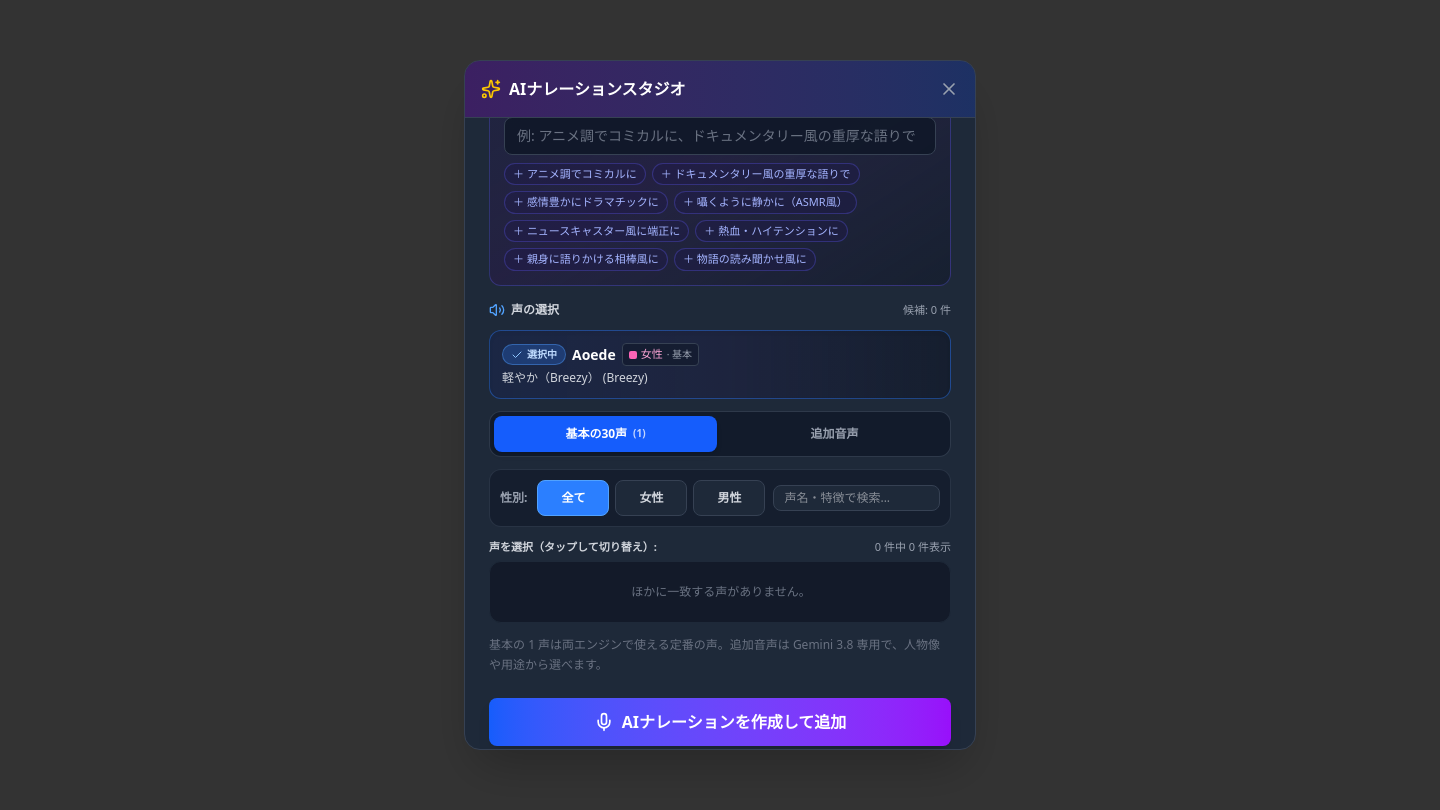
AIナレーションの音声エンジン設定 › 職業を選択しても用途・目的ドロップダウンの全選択肢が維持され、用途の変更で職業がリセットされる
The width and height of the screenshot is (1440, 810).
(page scrolled)
Click the button "追加音声" at [834, 434], box [723,416,946,452]
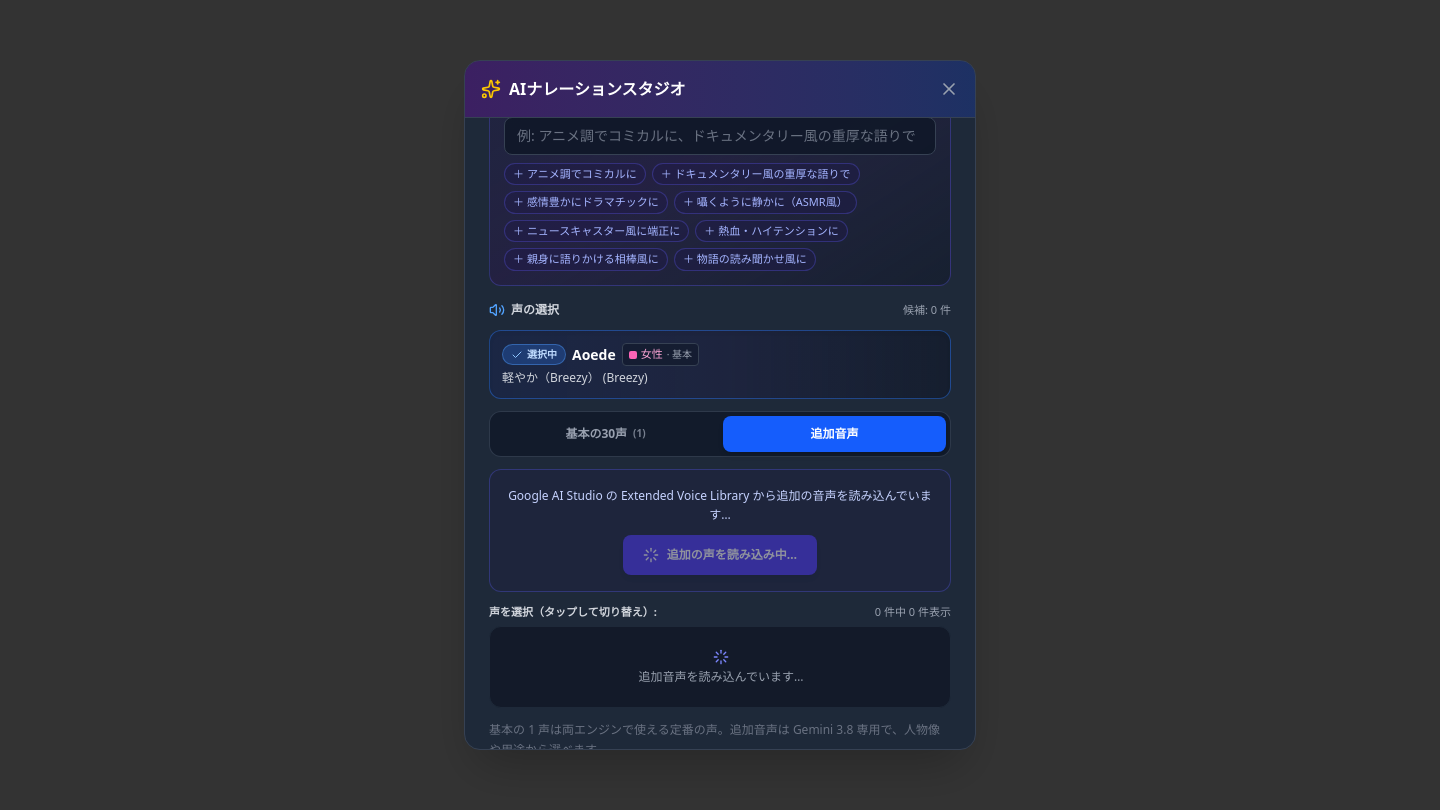
Click the button with aria-label "追加の声を読み込む" at [720, 555], box [623,535,817,575]
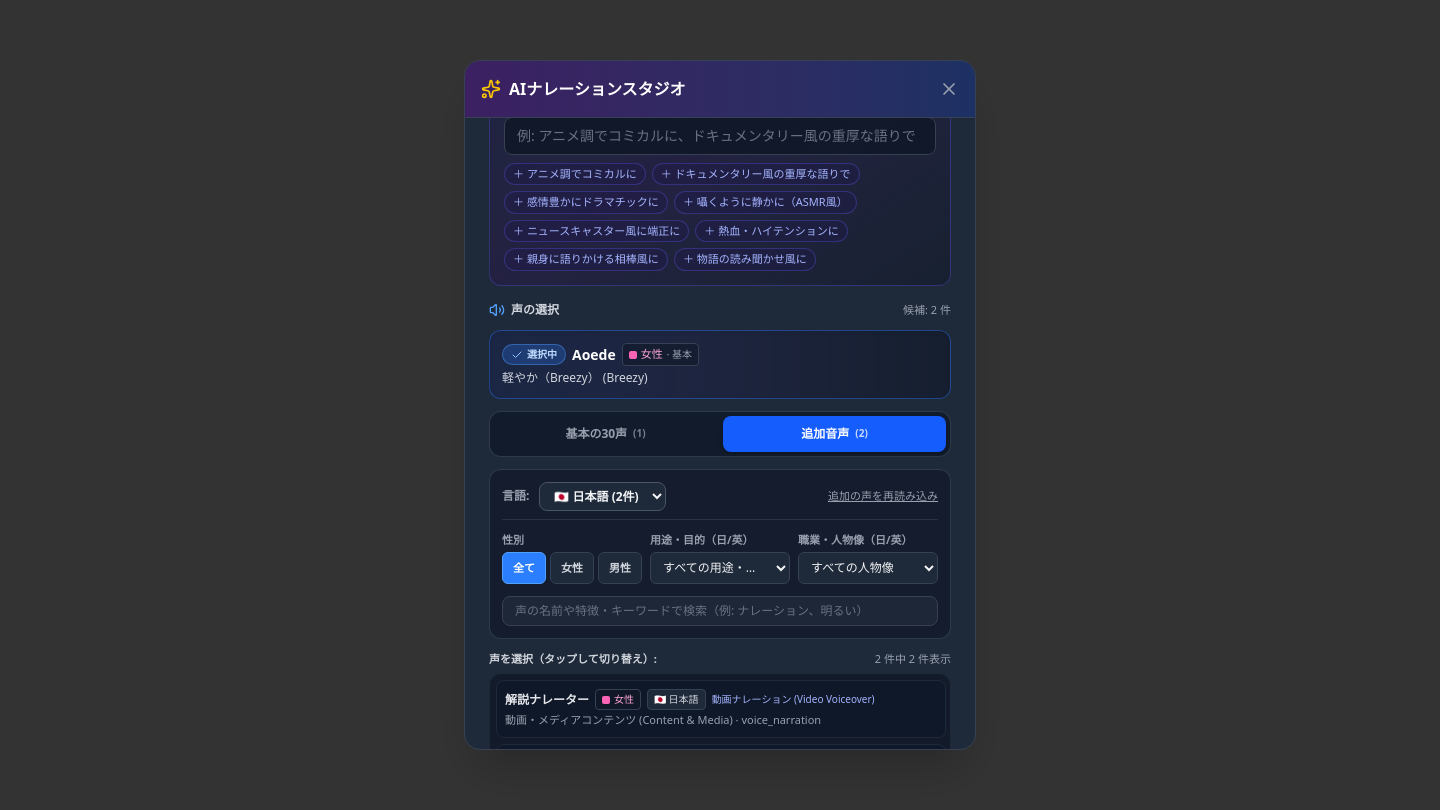
// 先に職業・人物像で「Video Voiceover」を選択
Select "動画ナレーション (Video Voiceover)" in the dropdown labelled "職業・人物像" at [868, 568], box [798,552,938,584]
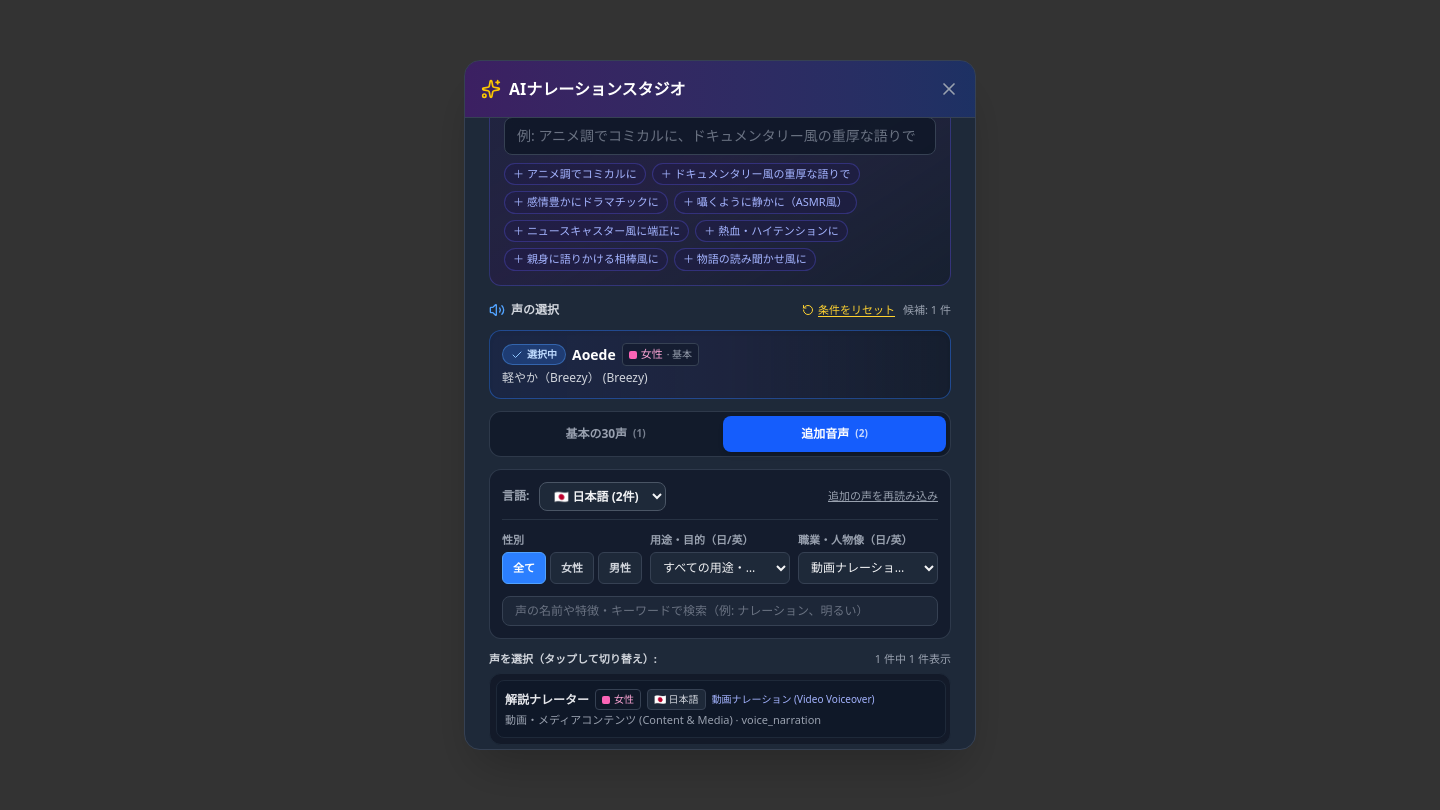
// 直接用途を「Conversational / Edu」に切り替えると、前の職業が自動リセットされ、用途に属する声が表示される
Select "会話・教育・学習 (Conversational / Edu)" in the dropdown named "シーン・用途" at [720, 568], box [650,552,790,584]
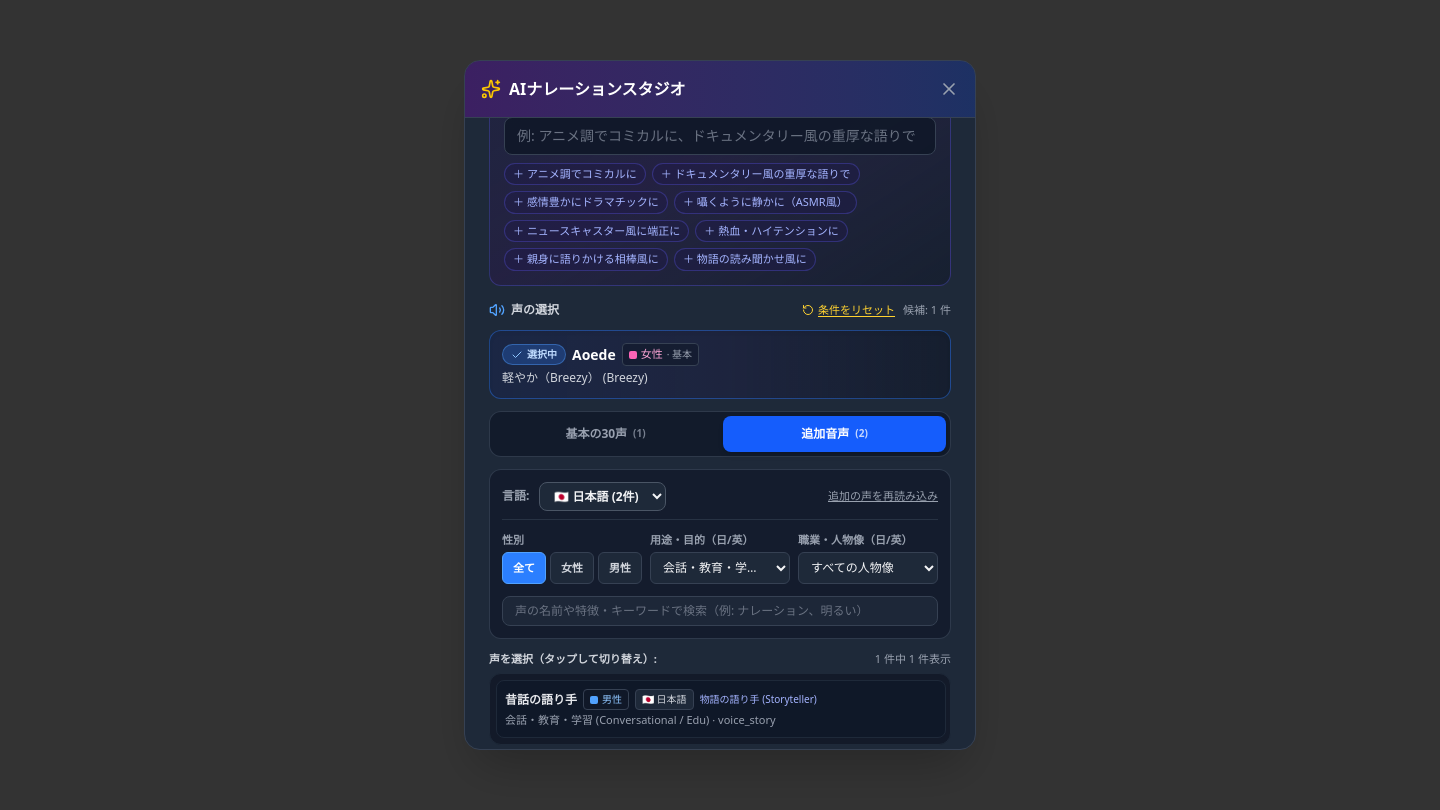
Expected: the button "解説ナレーター" is gone
